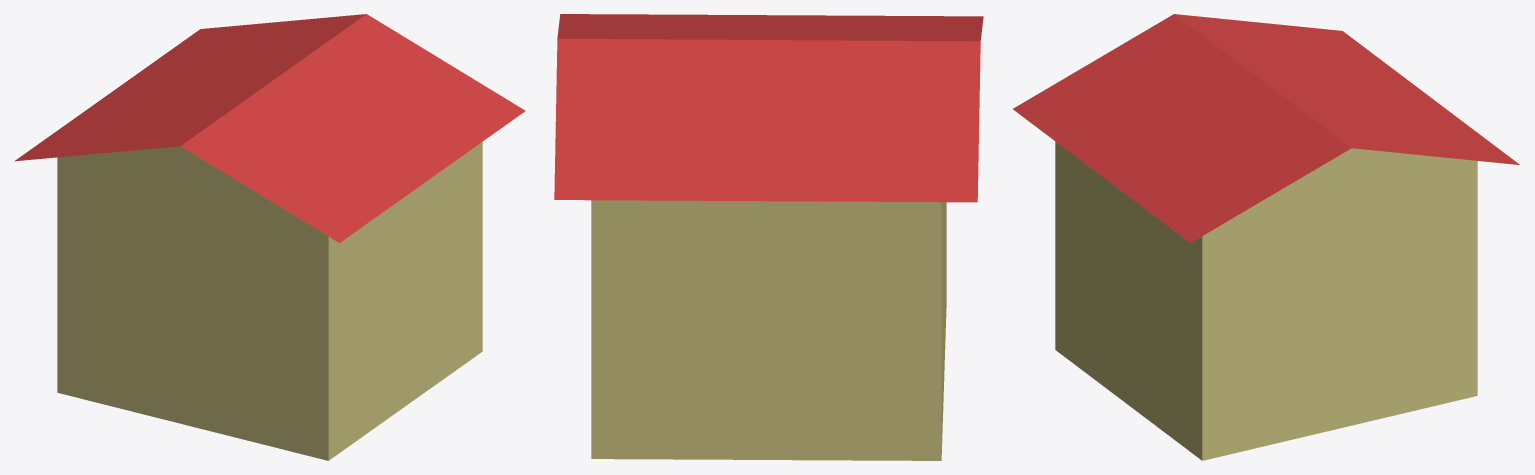
3 renders of one model, left to right at view 1: azimuth 30°, elevation 25°; view 2: azimuth 150°, elevation 25°; view 3: azimuth 270°, elevation 25°, orthographic. The views are drawn at different scales.
Bounding box in the file's own units: 11.96 × 12.09 × 7.69.
